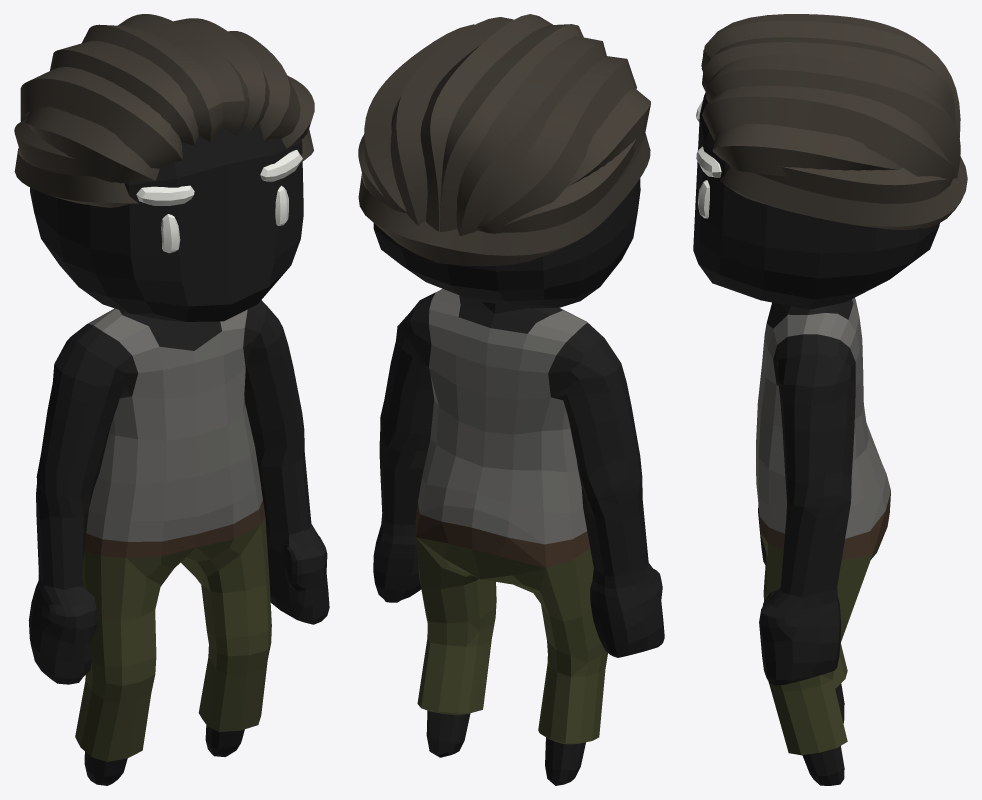
Rendered from casual3-male-224dab46d7.glb.
3 views of the same model, side by side, from view 1: azimuth 30°, elevation 25°; view 2: azimuth 150°, elevation 25°; view 3: azimuth 270°, elevation 25° (orthographic). The views are drawn at different scales.
Parts seen in each view (by area): view 1: Casual3_Male.obj; view 2: Casual3_Male.obj; view 3: Casual3_Male.obj.
Boxes of the visible parts, left/top/right/bottom form: Casual3_Male.obj: left=14, top=14, right=329, bottom=785; Casual3_Male.obj: left=358, top=14, right=664, bottom=785; Casual3_Male.obj: left=693, top=14, right=967, bottom=785.
Size of the model in its own units: 1.29 by 3.17 by 1.09.
